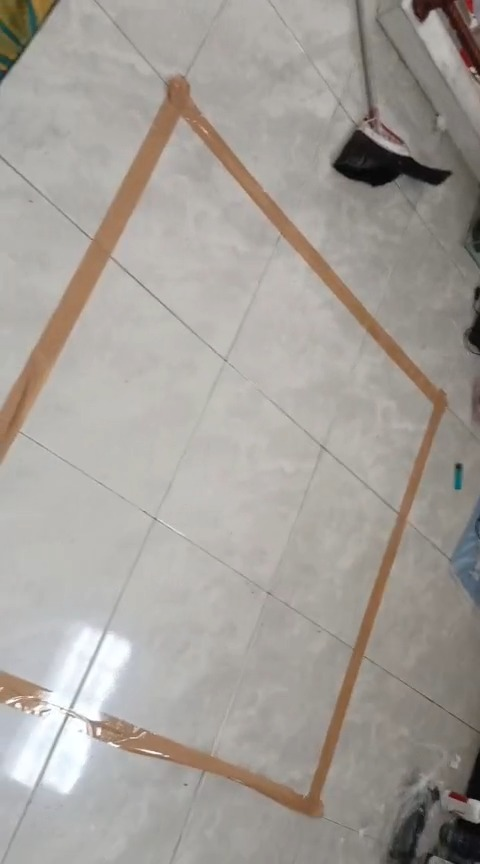floor marking: (0, 76, 446, 815)
